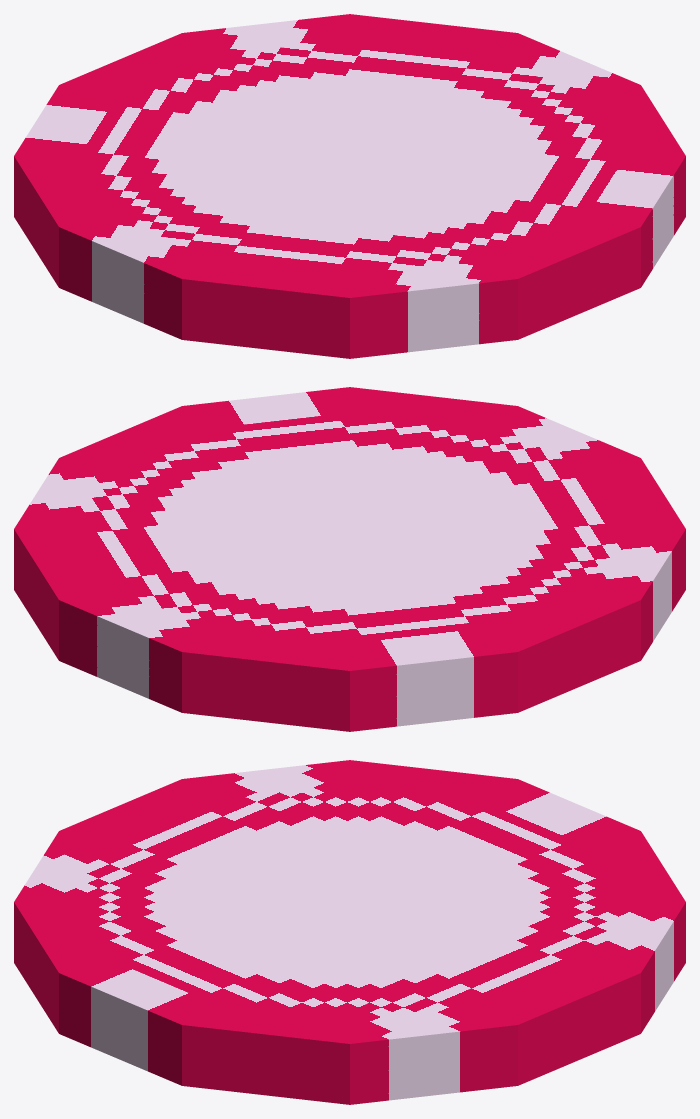
The model's file is chip.fbx.
3 renders of one model, top to bottom at view 1: azimuth 30°, elevation 25°; view 2: azimuth 150°, elevation 25°; view 3: azimuth 270°, elevation 25°, orthographic.
Visible parts, largest first — view 1: ChipMaterial; view 2: ChipMaterial; view 3: ChipMaterial.
Boxes of the visible parts, x1,y1,x2,y2 form: ChipMaterial: [14, 14, 685, 358]; ChipMaterial: [14, 387, 685, 731]; ChipMaterial: [14, 760, 685, 1104].
Bounding box in the file's own units: 200 × 20 × 200.
